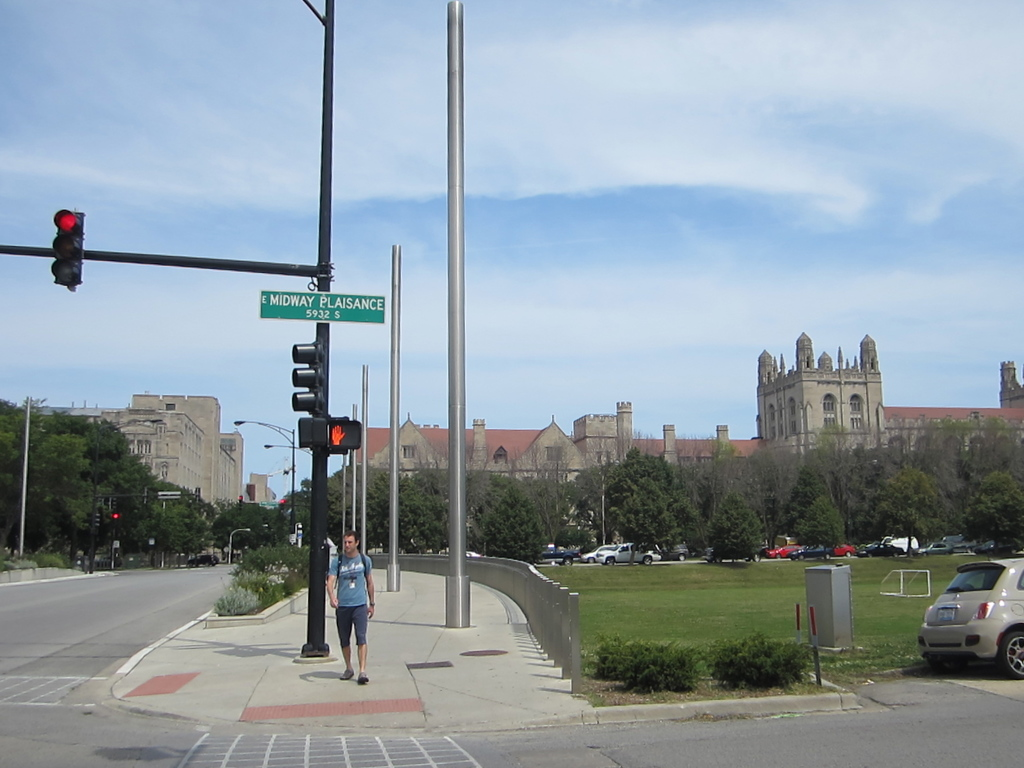red_light: (53, 210, 84, 285)
